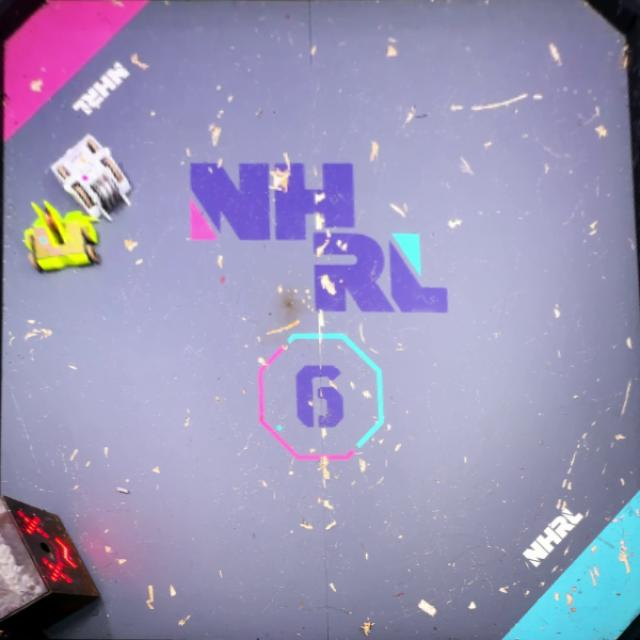housebot: (0, 492, 106, 640)
robot: (51, 133, 134, 221), (24, 200, 100, 274)
